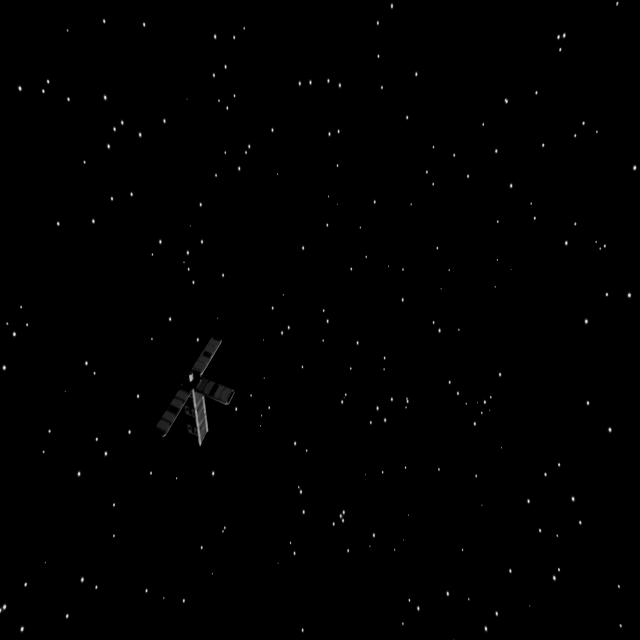satellite: (143, 330, 248, 454)
